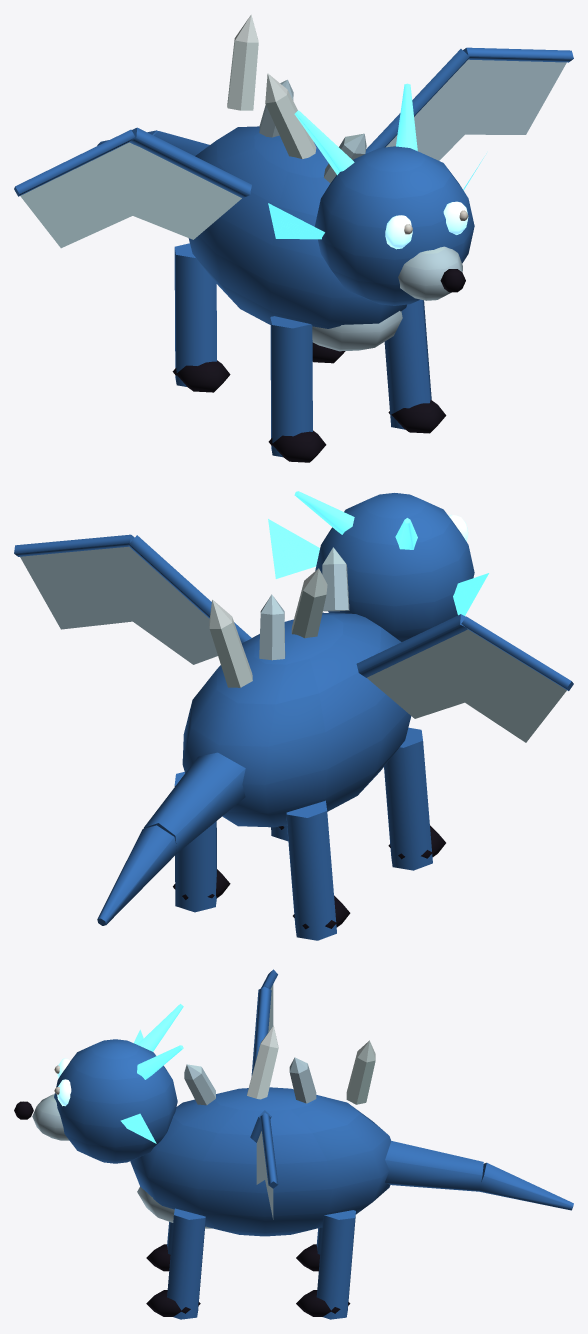
Rendered from monster_frost_drake.glb.
The picture shows the model from 3 angles, top to bottom: view 1: azimuth 30°, elevation 25°; view 2: azimuth 150°, elevation 25°; view 3: azimuth 270°, elevation 25°; orthographic projection. The views are drawn at different scales.
Parts seen in each view (by area): view 1: body_t0_palette, wingl_t0_palette, wingr_t0_palette, legl_t0_palette, legr_t0_palette, body_t0_crystal, body_t0_glow_blue, tail_t0_palette; view 2: body_t0_palette, wingr_t0_palette, wingl_t0_palette, legl_t0_palette, tail_t0_palette, body_t0_crystal, legr_t0_palette; view 3: body_t0_palette, legr_t0_palette, tail_t0_palette, body_t0_crystal, wingr_t0_palette, wingl_t0_palette, legl_t0_palette.
Part boxes in pixels (x1,y1,x2,y2): body_t0_palette: [188, 14, 474, 351]; wingl_t0_palette: [14, 127, 251, 248]; wingr_t0_palette: [365, 47, 573, 160]; legl_t0_palette: [172, 243, 326, 462]; legr_t0_palette: [312, 299, 446, 433]; body_t0_crystal: [268, 83, 486, 239]; body_t0_glow_blue: [385, 201, 468, 249]; tail_t0_palette: [97, 130, 209, 155]; body_t0_palette: [182, 493, 474, 827]; wingr_t0_palette: [14, 534, 251, 664]; wingl_t0_palette: [356, 614, 573, 742]; legl_t0_palette: [286, 727, 445, 940]; tail_t0_palette: [97, 752, 245, 925]; body_t0_crystal: [268, 491, 488, 615]; legr_t0_palette: [173, 772, 288, 912]; body_t0_palette: [14, 1025, 391, 1236]; legr_t0_palette: [146, 1208, 355, 1319]; tail_t0_palette: [385, 1141, 573, 1210]; body_t0_crystal: [120, 1004, 183, 1143]; wingr_t0_palette: [250, 1110, 278, 1219]; wingl_t0_palette: [251, 969, 277, 1075]; legl_t0_palette: [146, 1222, 322, 1271].
Size of the model in its own units: 0.6033 by 0.3555 by 0.6737.
